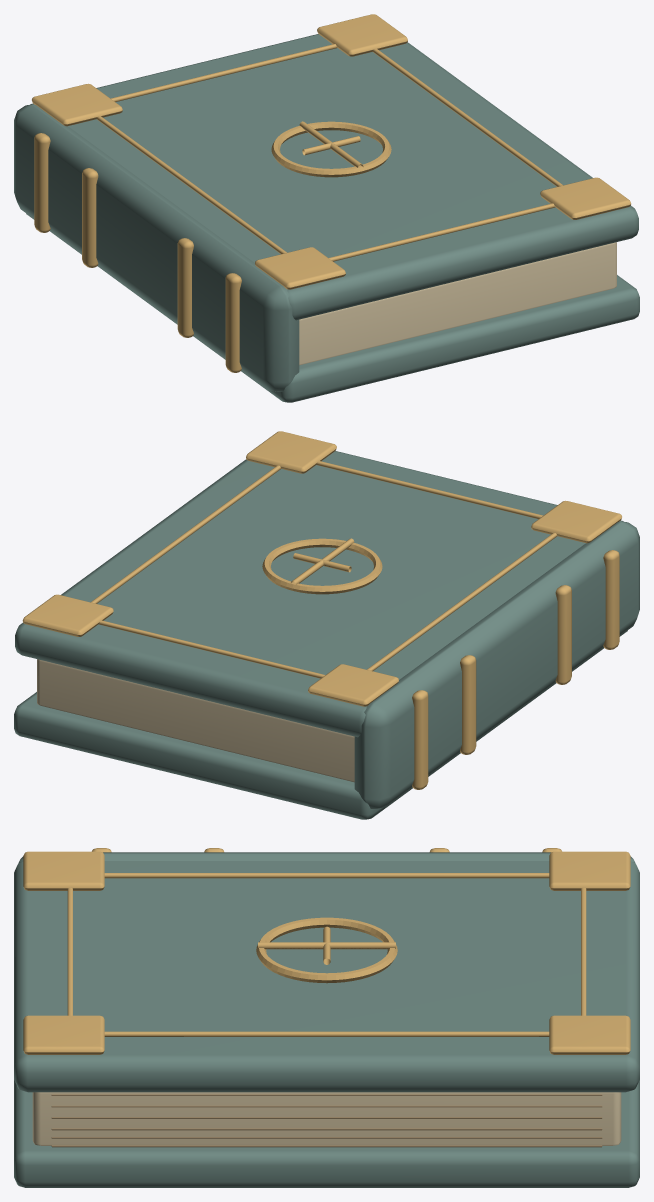
Rendered from story-book.glb.
3 views of the same model, one above another, from view 1: azimuth 30°, elevation 25°; view 2: azimuth 150°, elevation 25°; view 3: azimuth 270°, elevation 25° (orthographic). The views are drawn at different scales.
Parts seen in each view (by area): view 1: FrontCover, BookSpine, BookBlock, BookBack, CoverCorner.002, CoverCorner, CoverCorner.003, CoverCorner.001, CoverSeal, SpineBand.001, SpineBand, SpineBand.003 (+5 smaller); view 2: FrontCover, BookSpine, BookBlock, BookBack, CoverCorner.003, CoverCorner.001, CoverCorner.002, CoverCorner, CoverSeal, SpineBand.002, SpineBand.003, SpineBand (+5 smaller); view 3: FrontCover, BookBlock, BookBack, BookSpine, CoverCorner.002, CoverCorner.003, CoverCorner, CoverCorner.001, CoverSeal, CoverInlay, CoverInlay.001, PageEdges (+9 smaller).
Boxes of the visible parts, box(x1,y1,x2,y2) form: FrontCover: box(30, 34, 638, 320); BookSpine: box(14, 105, 299, 391); BookBlock: box(299, 242, 616, 365); BookBack: box(26, 213, 639, 402); CoverCorner.002: box(540, 177, 631, 219); CoverCorner: box(255, 247, 345, 289); CoverCorner.003: box(317, 14, 407, 56); CoverCorner.001: box(32, 83, 122, 126); CoverSeal: box(271, 121, 391, 177); SpineBand.001: box(177, 238, 193, 337); SpineBand: box(225, 273, 241, 372); SpineBand.003: box(34, 133, 50, 232); FrontCover: box(15, 451, 623, 737); BookSpine: box(354, 522, 639, 808); BookBlock: box(37, 659, 354, 782); BookBack: box(14, 630, 627, 819); CoverCorner.003: box(22, 594, 113, 636); CoverCorner.001: box(308, 664, 398, 706); CoverCorner.002: box(246, 431, 336, 473); CoverCorner: box(531, 500, 621, 543); CoverSeal: box(262, 538, 382, 594); SpineBand.002: box(460, 655, 476, 754); SpineBand.003: box(412, 690, 428, 789); SpineBand: box(603, 550, 619, 649); FrontCover: box(14, 861, 639, 1092); BookBlock: box(32, 1092, 621, 1145); BookBack: box(14, 1080, 639, 1187); BookSpine: box(18, 852, 635, 862); CoverCorner.002: box(23, 1015, 104, 1054); CoverCorner.003: box(549, 1015, 630, 1054); CoverCorner: box(23, 851, 104, 890); CoverCorner.001: box(549, 851, 630, 890); CoverSeal: box(256, 917, 397, 983); CoverInlay: box(104, 873, 549, 878); CoverInlay.001: box(104, 1031, 549, 1036); PageEdges: box(51, 1145, 602, 1147).
Size of the model in its own units: 0.8225 by 0.2585 by 1.
